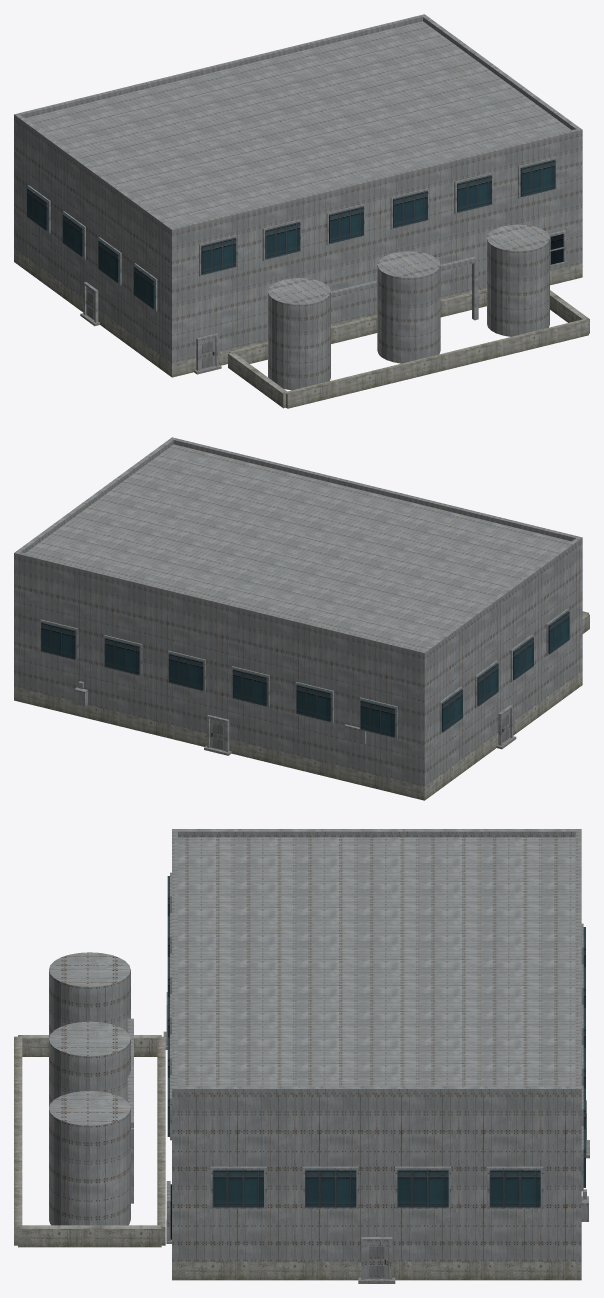
The model's file is riverside-chemical-storage_lod0.gltf.
3 views of the same model, one above another, from view 1: azimuth 30°, elevation 25°; view 2: azimuth 150°, elevation 25°; view 3: azimuth 270°, elevation 25° (orthographic). The views are drawn at different scales.
Parts seen in each view (by area): view 1: riverside-chemical-storage_upper, riverside-chemical-storage_fen_07-glass-curtain-blue_1, riverside-chemical-storage__tank_b, riverside-chemical-storage__tank_c, riverside-chemical-storage__tank_a, riverside-chemical-storage__bund_front, riverside-chemical-storage_fen_14-steel-panel_0, riverside-chemical-storage_base, riverside-chemical-storage__parapet_front, riverside-chemical-storage__parapet_back, riverside-chemical-storage__bund_back, riverside-chemical-storage__parapet_left (+4 smaller); view 2: riverside-chemical-storage_upper, riverside-chemical-storage_fen_07-glass-curtain-blue_1, riverside-chemical-storage_base, riverside-chemical-storage_fen_14-steel-panel_0, riverside-chemical-storage__parapet_back, riverside-chemical-storage__parapet_front, riverside-chemical-storage__parapet_left, riverside-chemical-storage__parapet_right; view 3: riverside-chemical-storage_upper, riverside-chemical-storage__tank_c, riverside-chemical-storage_fen_07-glass-curtain-blue_1, riverside-chemical-storage_base, riverside-chemical-storage__tank_a, riverside-chemical-storage__tank_b, riverside-chemical-storage_fen_14-steel-panel_0, riverside-chemical-storage__parapet_left, riverside-chemical-storage__parapet_right, riverside-chemical-storage__bund_right, riverside-chemical-storage__parapet_back, riverside-chemical-storage__bund_back (+3 smaller).
Boxes of the visible parts, <box> form: riverside-chemical-storage_upper: <box>14,21,582,363</box>; riverside-chemical-storage_fen_07-glass-curtain-blue_1: <box>27,159,555,309</box>; riverside-chemical-storage__tank_b: <box>377,251,440,363</box>; riverside-chemical-storage__tank_c: <box>487,224,549,336</box>; riverside-chemical-storage__tank_a: <box>268,278,330,390</box>; riverside-chemical-storage__bund_front: <box>285,318,588,408</box>; riverside-chemical-storage_fen_14-steel-panel_0: <box>27,157,567,370</box>; riverside-chemical-storage_base: <box>14,248,582,377</box>; riverside-chemical-storage__parapet_front: <box>169,128,582,234</box>; riverside-chemical-storage__parapet_back: <box>14,14,426,119</box>; riverside-chemical-storage__bund_back: <box>229,289,486,363</box>; riverside-chemical-storage__parapet_left: <box>16,115,173,232</box>; riverside-chemical-storage_upper: <box>14,444,582,786</box>; riverside-chemical-storage_fen_07-glass-curtain-blue_1: <box>41,611,569,737</box>; riverside-chemical-storage_base: <box>14,671,582,800</box>; riverside-chemical-storage_fen_14-steel-panel_0: <box>40,608,569,752</box>; riverside-chemical-storage__parapet_back: <box>14,551,426,657</box>; riverside-chemical-storage__parapet_front: <box>170,437,582,542</box>; riverside-chemical-storage__parapet_left: <box>423,538,580,655</box>; riverside-chemical-storage__parapet_right: <box>16,439,173,553</box>; riverside-chemical-storage_upper: <box>172,837,581,1261</box>; riverside-chemical-storage__tank_c: <box>49,1091,130,1225</box>; riverside-chemical-storage_fen_07-glass-curtain-blue_1: <box>167,876,585,1207</box>; riverside-chemical-storage_base: <box>172,1261,581,1280</box>; riverside-chemical-storage__tank_a: <box>49,952,130,1037</box>; riverside-chemical-storage__tank_b: <box>49,1021,130,1106</box>; riverside-chemical-storage_fen_14-steel-panel_0: <box>166,872,588,1279</box>; riverside-chemical-storage__parapet_left: <box>178,829,575,837</box>; riverside-chemical-storage__parapet_right: <box>178,1086,575,1094</box>; riverside-chemical-storage__bund_right: <box>18,1225,161,1247</box>; riverside-chemical-storage__parapet_back: <box>575,829,581,1094</box>; riverside-chemical-storage__bund_back: <box>157,1036,165,1245</box>.
Bounding box in the file's own units: 30.8 × 10.3 × 28.1.
